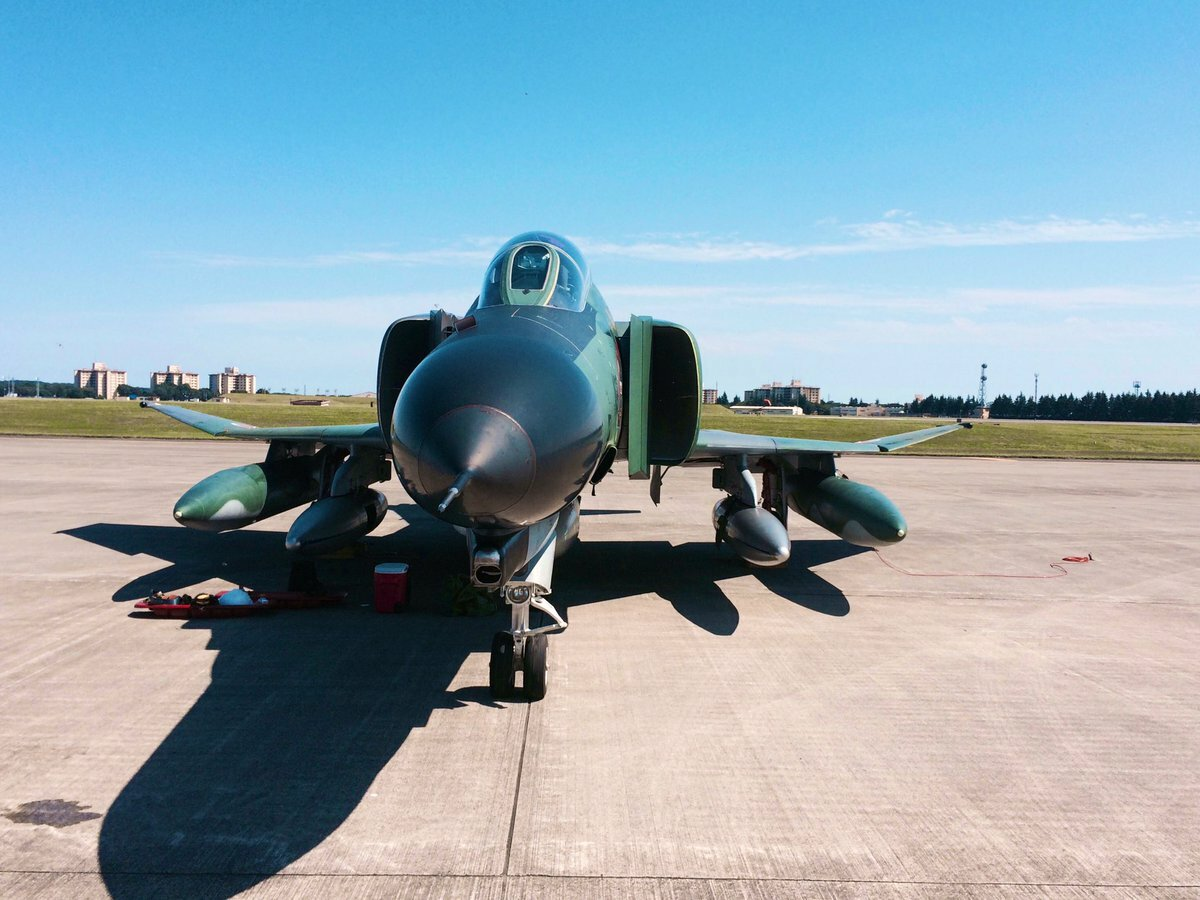F4: (139, 230, 974, 698)
